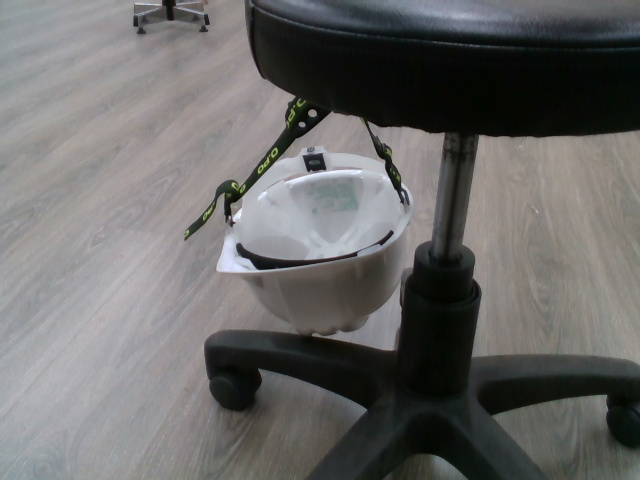helmet: (217, 144, 413, 336)
